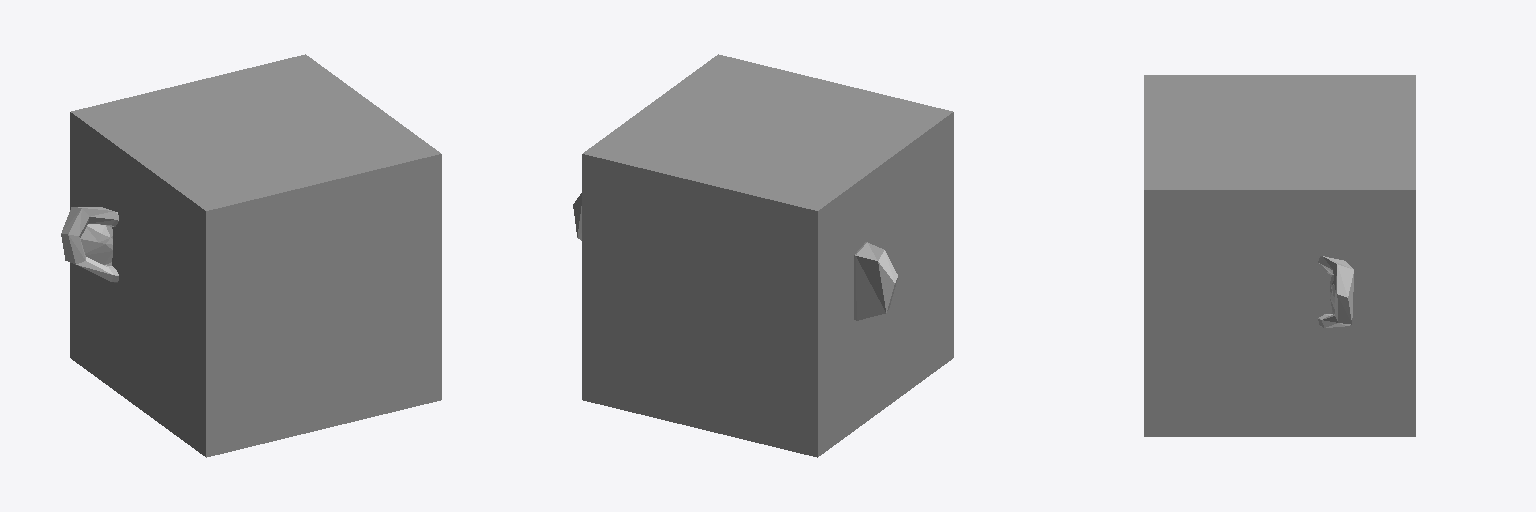
The model's file is Suzanne.obj.
The picture shows the model from 3 angles: view 1: azimuth 30°, elevation 25°; view 2: azimuth 150°, elevation 25°; view 3: azimuth 270°, elevation 25°; orthographic projection.
Parts seen in each view (by area): view 1: Cube, Suzanne; view 2: Cube, Suzanne; view 3: Cube, Suzanne.
Boxes of the visible parts, x1,y1,x2,y2 form: Cube: [70, 54, 441, 457]; Suzanne: [61, 207, 118, 282]; Cube: [582, 54, 953, 457]; Suzanne: [573, 193, 897, 320]; Cube: [1144, 75, 1415, 436]; Suzanne: [1318, 256, 1353, 327].
Size of the model in its own units: 2.73 by 2 by 2.